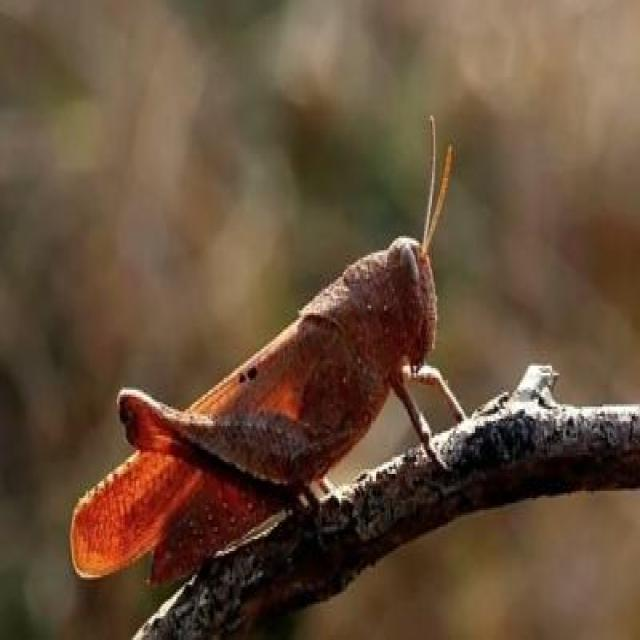antennae: (71, 331, 319, 575), (426, 144, 453, 248), (421, 115, 437, 250)
body: (152, 240, 435, 575)
insect: (69, 109, 462, 594)
legs: (118, 387, 317, 527), (389, 373, 445, 479), (409, 360, 468, 429)
mouthpart: (407, 340, 435, 378)
wings: (72, 317, 328, 576)
